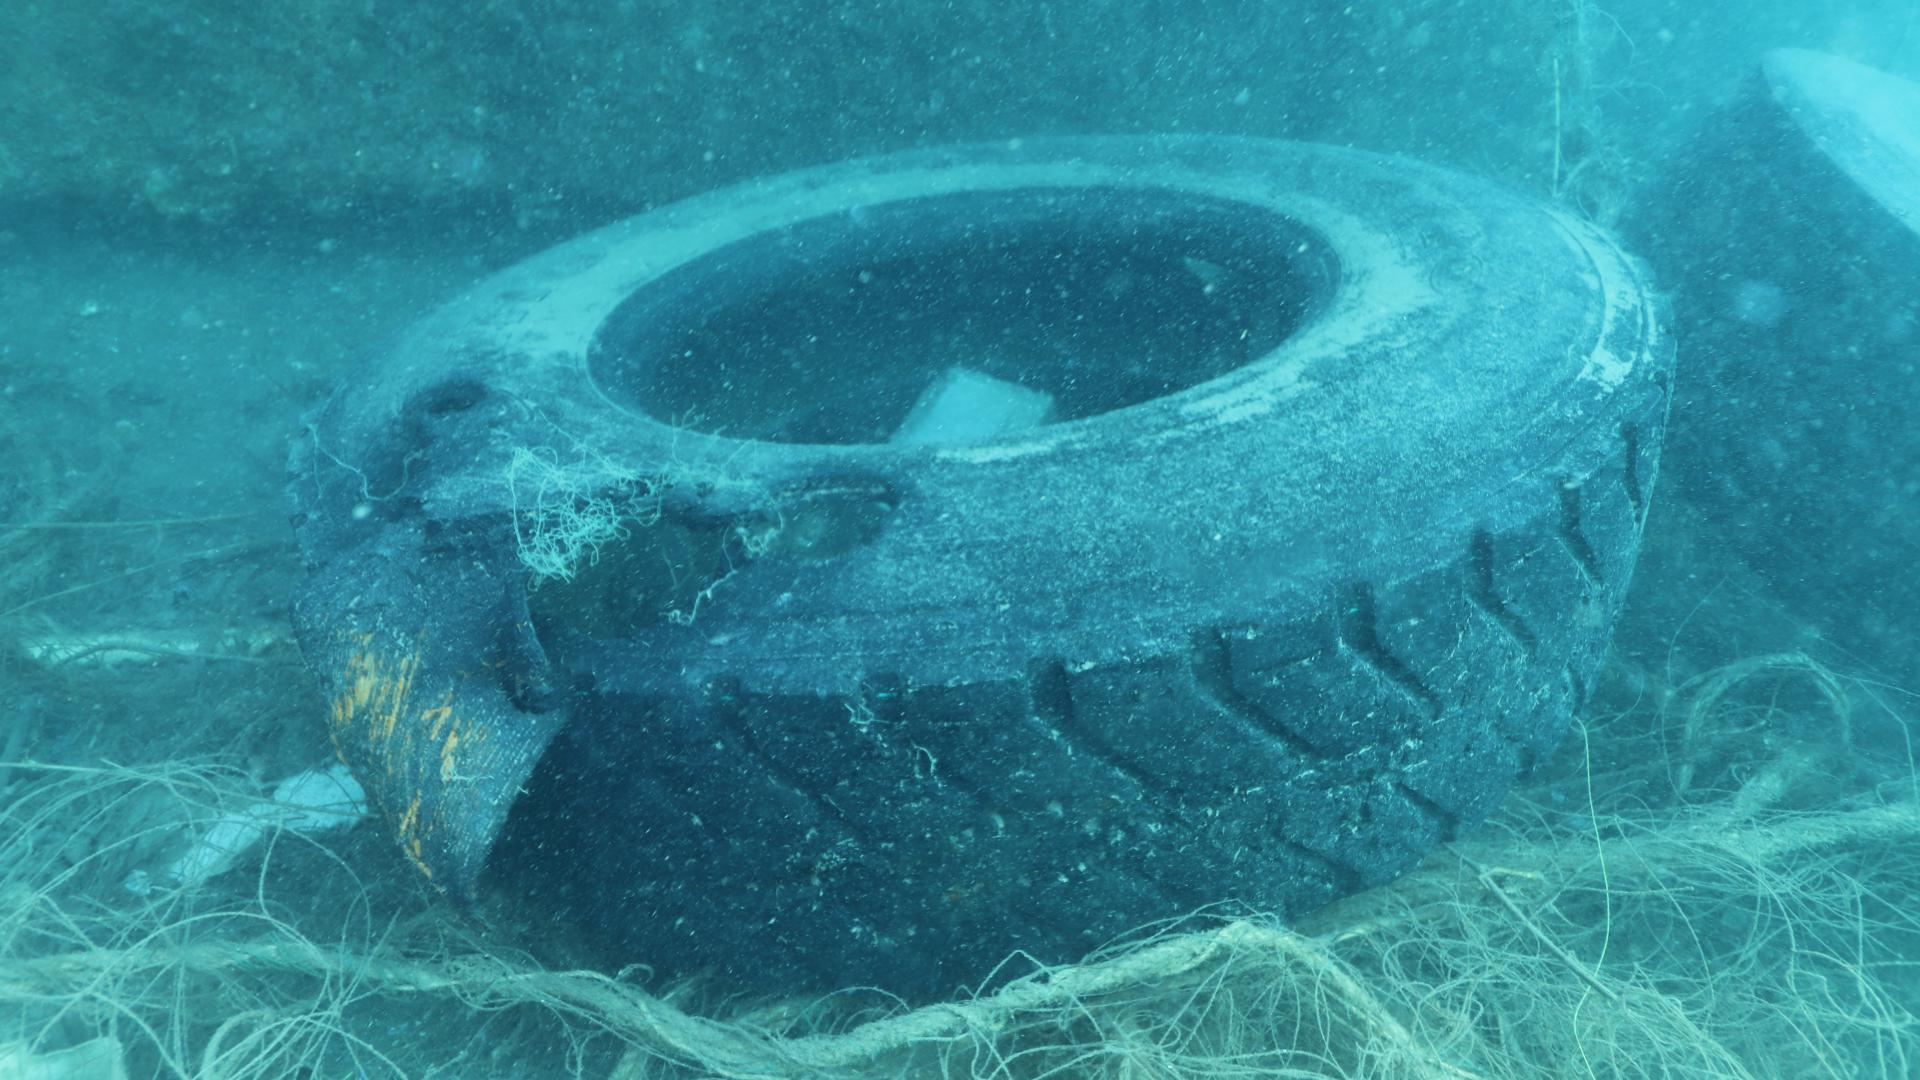tire: (290, 129, 1684, 992)
